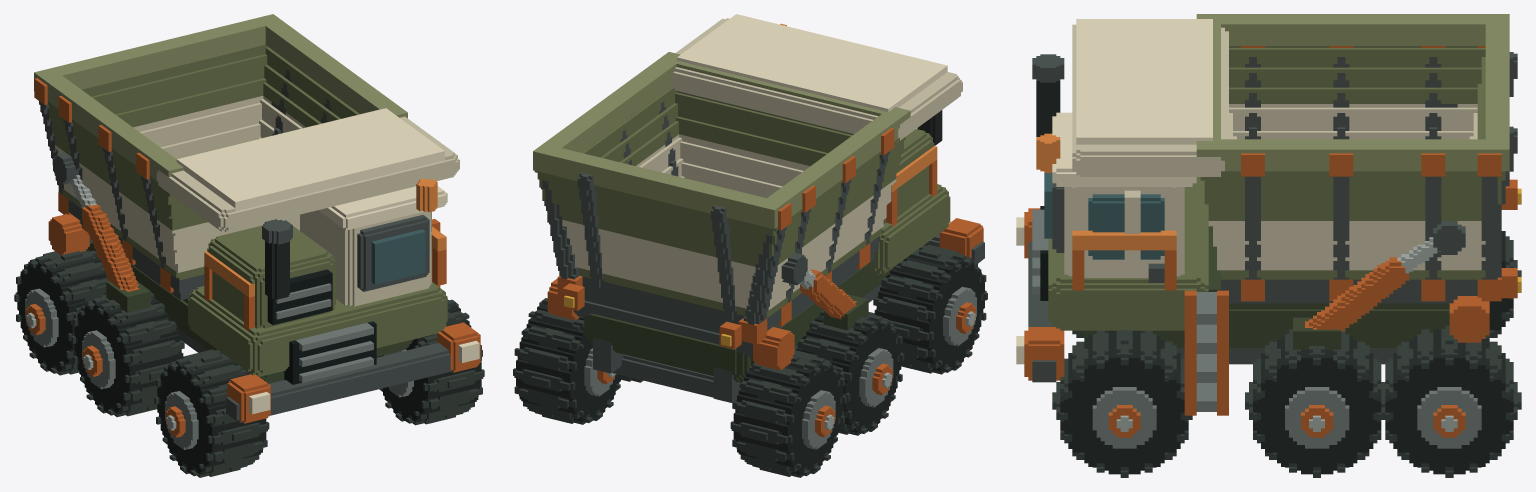
The model's file is haul_truck.glb.
3 renders of one model, left to right at view 1: azimuth 30°, elevation 25°; view 2: azimuth 150°, elevation 25°; view 3: azimuth 270°, elevation 25°, orthographic. The views are drawn at different scales.
Visible parts, largest first — view 1: haul_truck; view 2: haul_truck; view 3: haul_truck.
Boxes of the visible parts, x1,y1,x2,y2 form: haul_truck: [14, 14, 484, 477]; haul_truck: [513, 14, 987, 477]; haul_truck: [1016, 14, 1521, 477].
Bounding box in the file's own units: 5.5 × 4.95 × 6.93.
